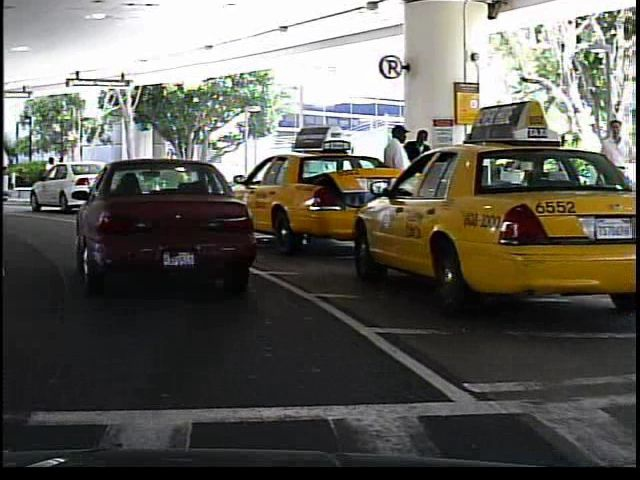person: (586, 114, 634, 239), (377, 123, 415, 238), (403, 122, 436, 229), (37, 152, 62, 195)
